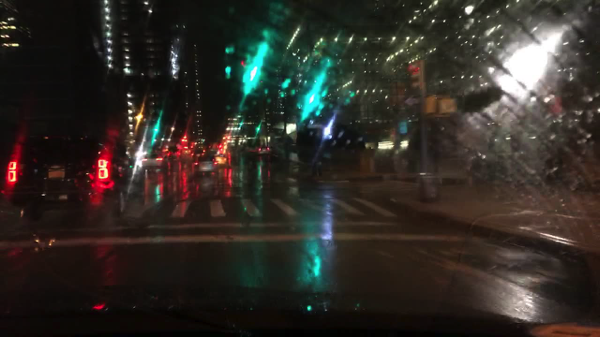car: (5, 118, 146, 237), (140, 148, 182, 173), (189, 150, 220, 176), (215, 153, 229, 168), (257, 147, 271, 155)
traffic light: (407, 62, 421, 90), (438, 97, 458, 115), (424, 95, 438, 115), (239, 58, 248, 67), (255, 125, 261, 132), (154, 127, 159, 133)
traffic sign: (402, 95, 422, 109)
